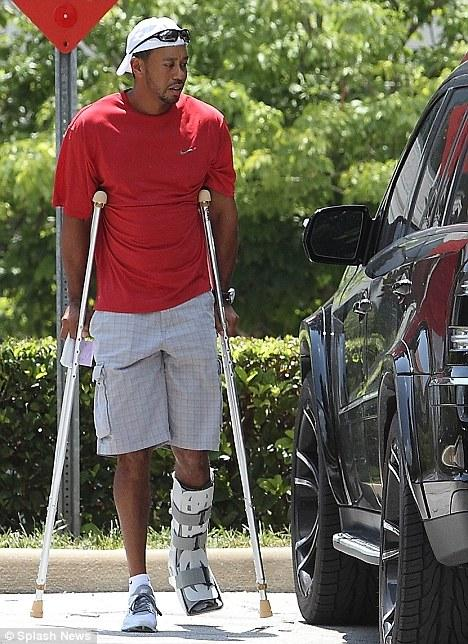crutches: (30, 17, 274, 632)
